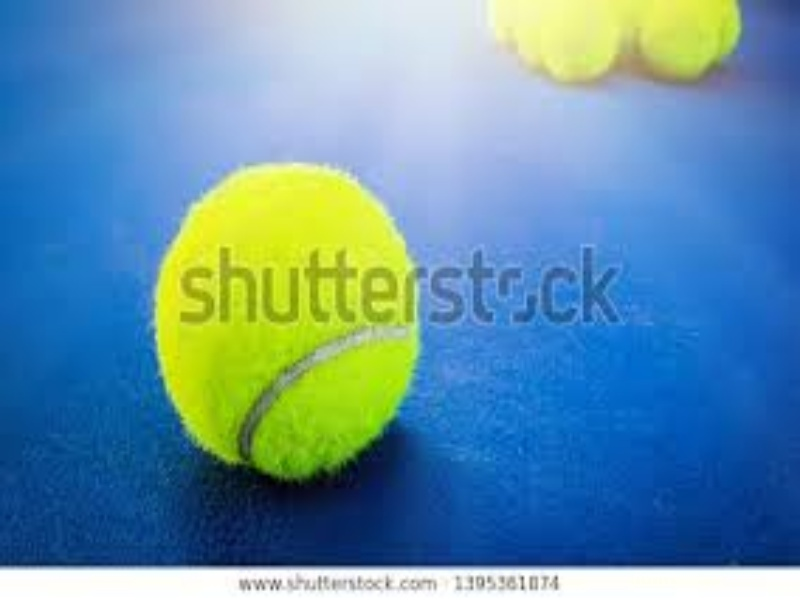tennis ball: (151, 159, 446, 477), (479, 6, 760, 100)
